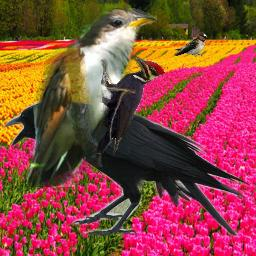Crow: (3, 100, 252, 238)
Cuckoo: (27, 8, 157, 187)
Swallow: (174, 32, 208, 57)
Woodpecker: (94, 55, 166, 160)
